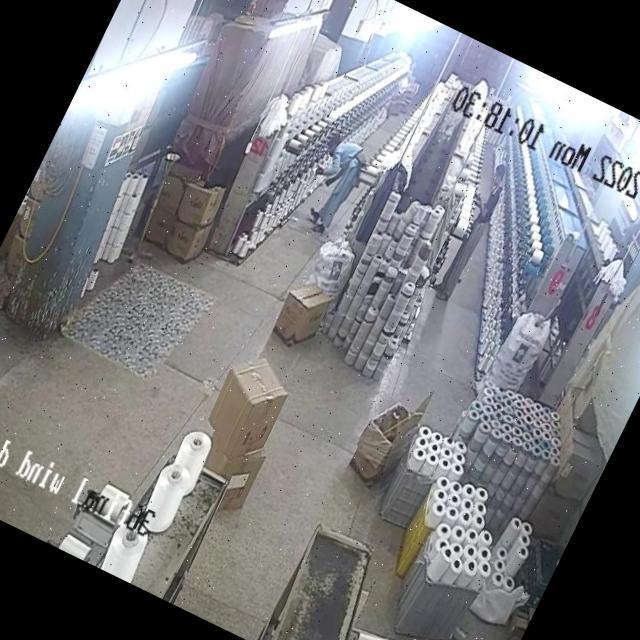person: (436, 162, 513, 292), (294, 133, 370, 240)
